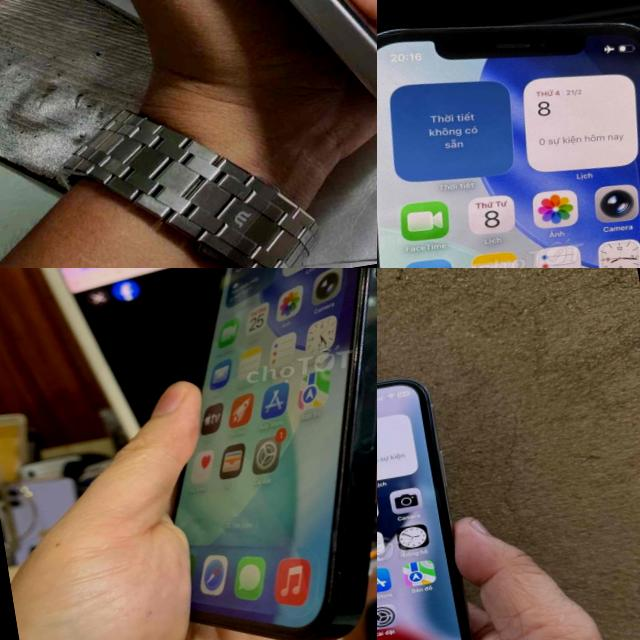scratch: (263, 268, 377, 600), (256, 0, 331, 54), (348, 57, 377, 150)
